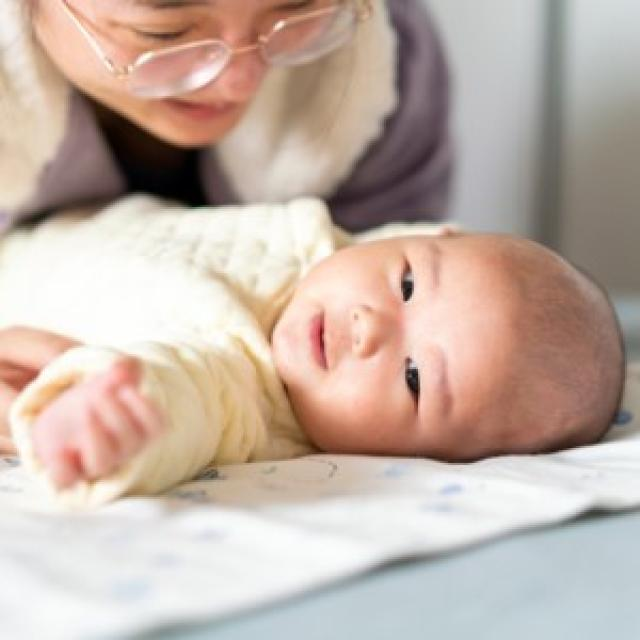non-dog: (1, 182, 630, 515), (0, 2, 460, 243)
